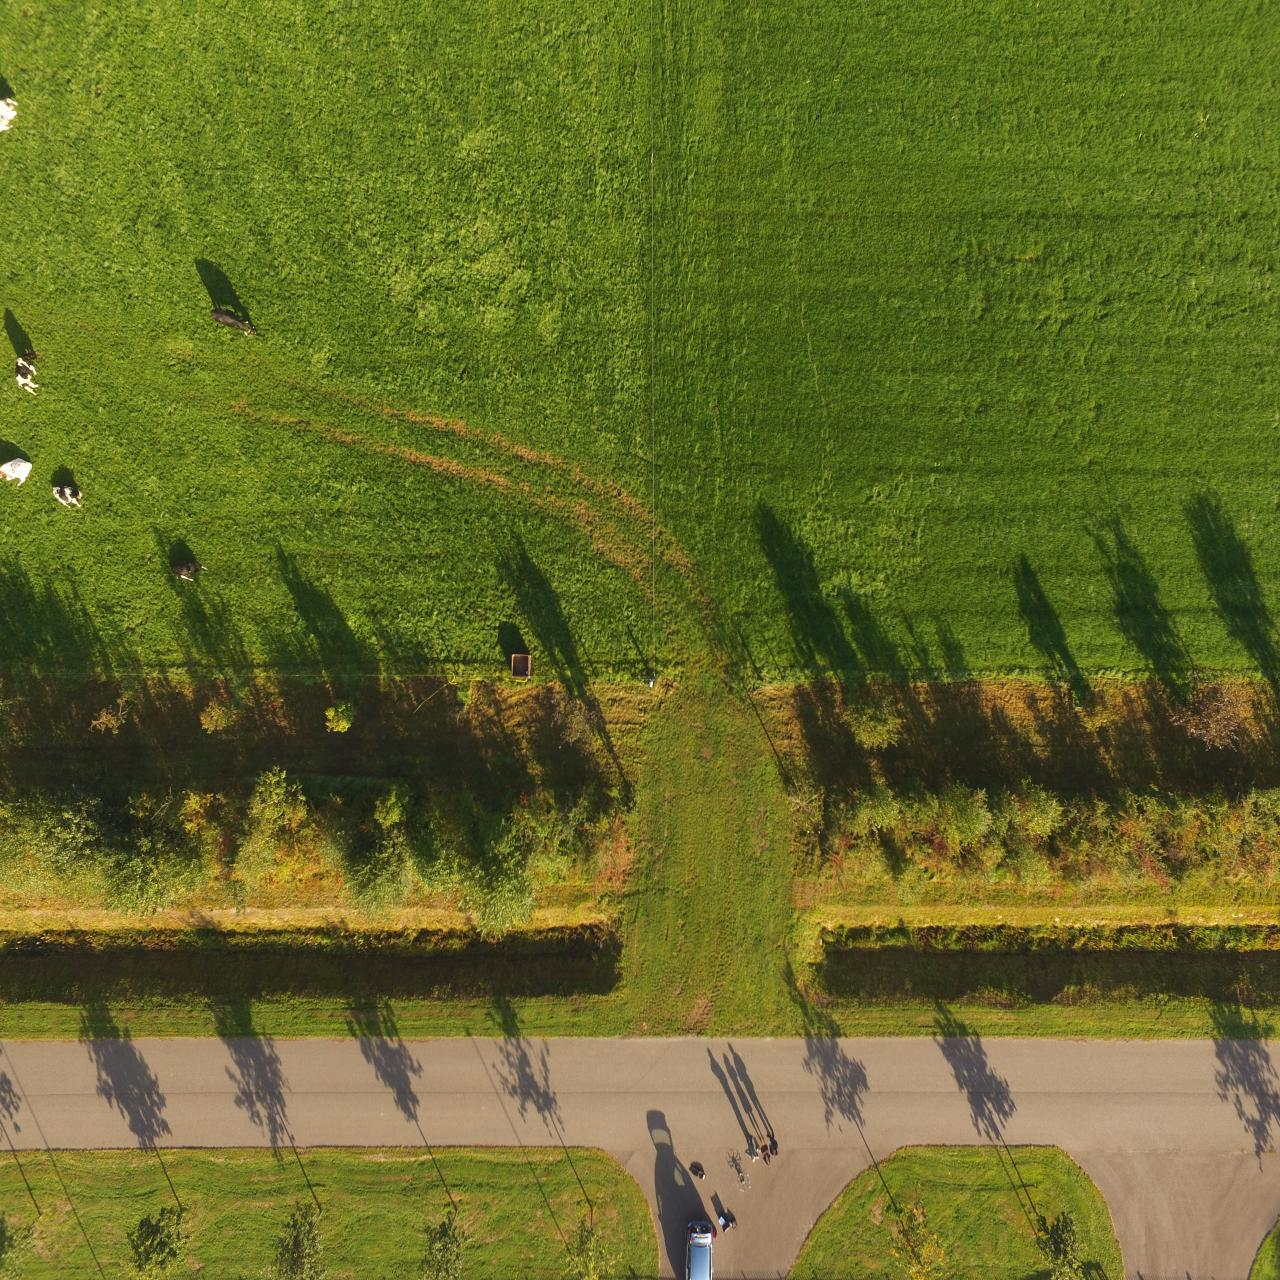cow: (9, 345, 47, 410), (205, 307, 266, 341), (0, 454, 35, 491), (166, 560, 212, 588), (49, 484, 86, 515)
